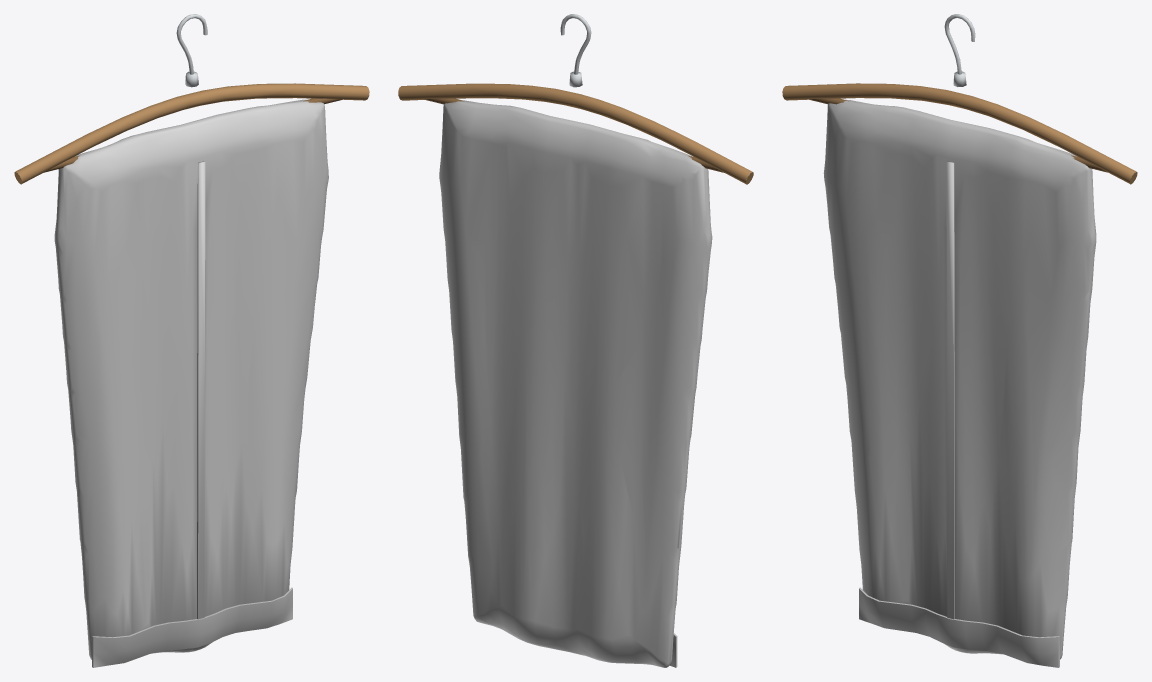
File: trousers-balanced-77638bc64e.glb
3 views of the same model, side by side, from view 1: azimuth 30°, elevation 25°; view 2: azimuth 150°, elevation 25°; view 3: azimuth 330°, elevation 25° (orthographic).
Visible parts, largest first — view 1: trousers; view 2: trousers; view 3: trousers.
Part boxes in pixels (left/top/right/bottom): trousers: left=14, top=14, right=369, bottom=667; trousers: left=398, top=14, right=753, bottom=667; trousers: left=782, top=14, right=1137, bottom=667.
Size of the model in its own units: 0.414 by 0.7187 by 0.0482.
